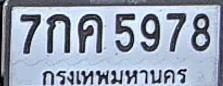5: (115, 13, 135, 52)
7: (20, 13, 41, 54), (166, 12, 186, 52)
8: (191, 13, 210, 51)
9: (140, 14, 160, 51)
A01: (46, 14, 70, 54)
A04: (78, 14, 103, 54)
BKK: (38, 66, 189, 86)
